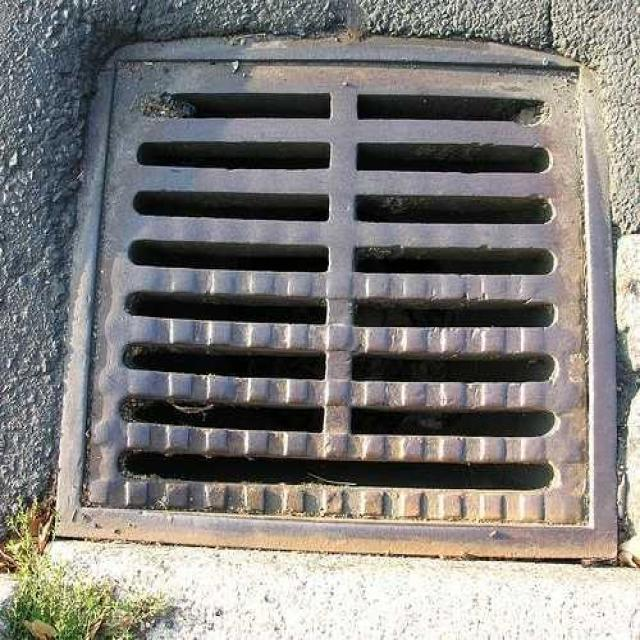manhole: (58, 40, 616, 558)
